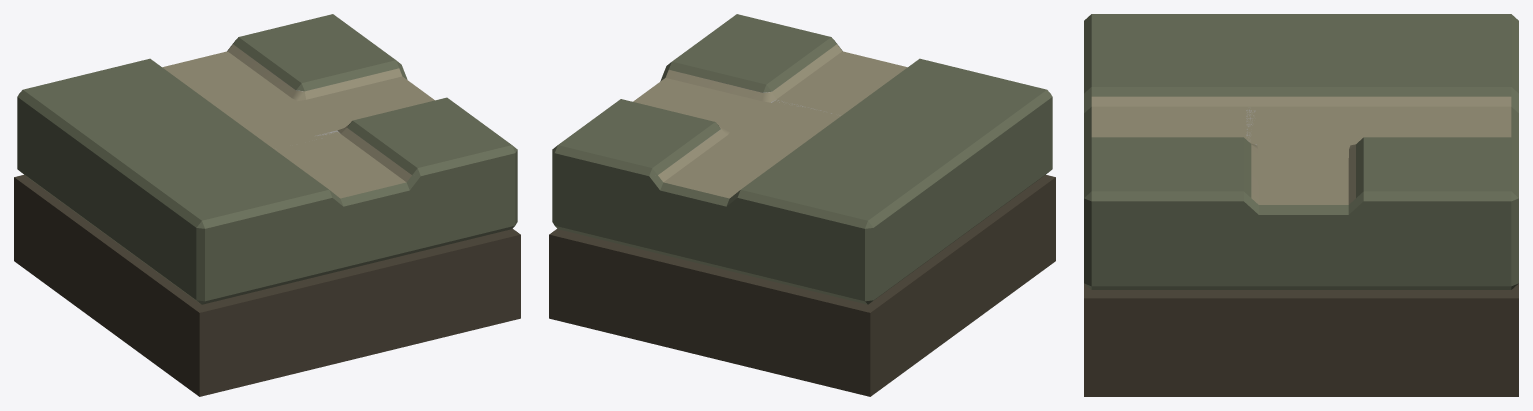
The model's file is Path 3 detailed.fbx.
The picture shows the model from 3 angles, left to right: view 1: azimuth 30°, elevation 25°; view 2: azimuth 150°, elevation 25°; view 3: azimuth 270°, elevation 25°; orthographic projection. The views are drawn at different scales.
Parts seen in each view (by area): view 1: polySurface3799; view 2: polySurface3799; view 3: polySurface3799.
Part boxes in pixels (x1,y1,x2,y2): polySurface3799: [14, 14, 520, 396]; polySurface3799: [549, 14, 1055, 396]; polySurface3799: [1084, 14, 1518, 396].
Bounding box in the file's own units: 56.97 × 29.24 × 56.97.
